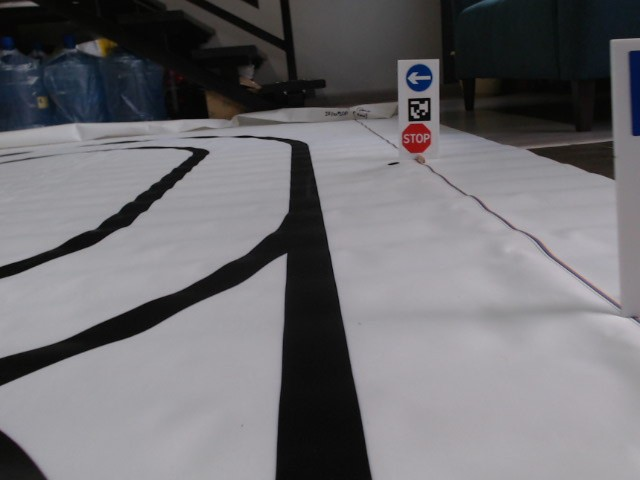Stop: (401, 122, 431, 154)
